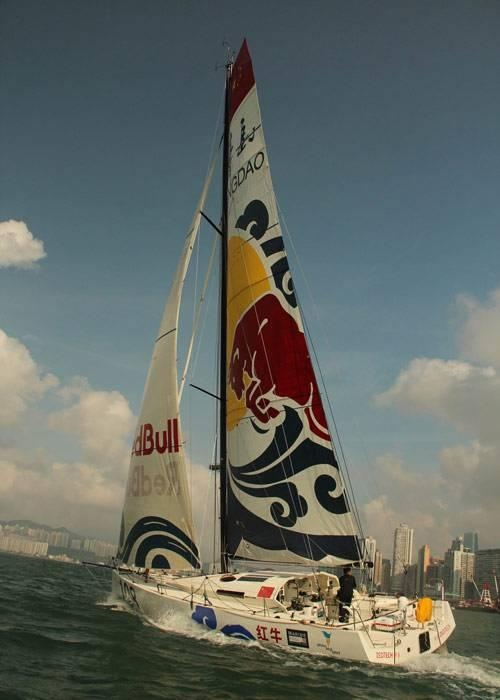fanchuan: (77, 34, 462, 672)
